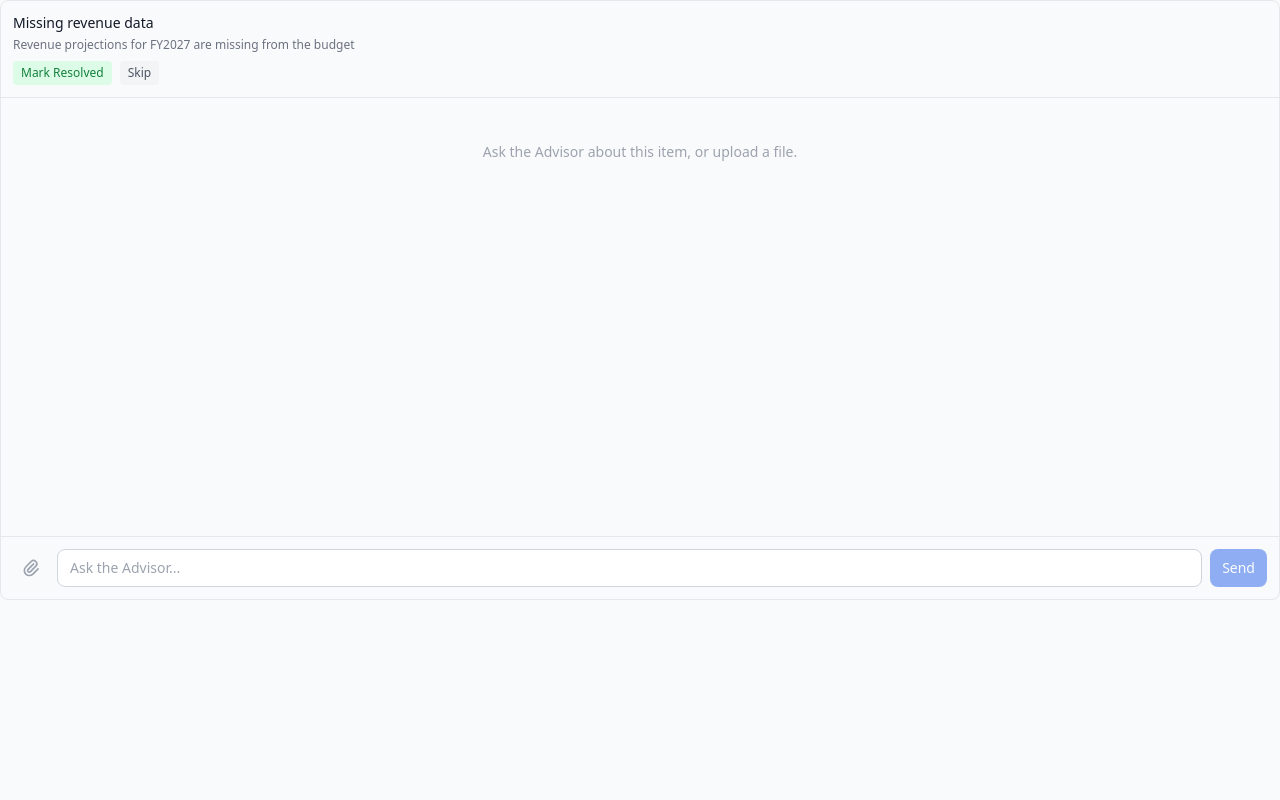
Test: TodoChat › shows 'Advisor is thinking...' while sending
Step 1. Type "Hello" into the field with placeholder "Ask the Advisor..." → point(630, 568), box 57,549 -> 1202,587
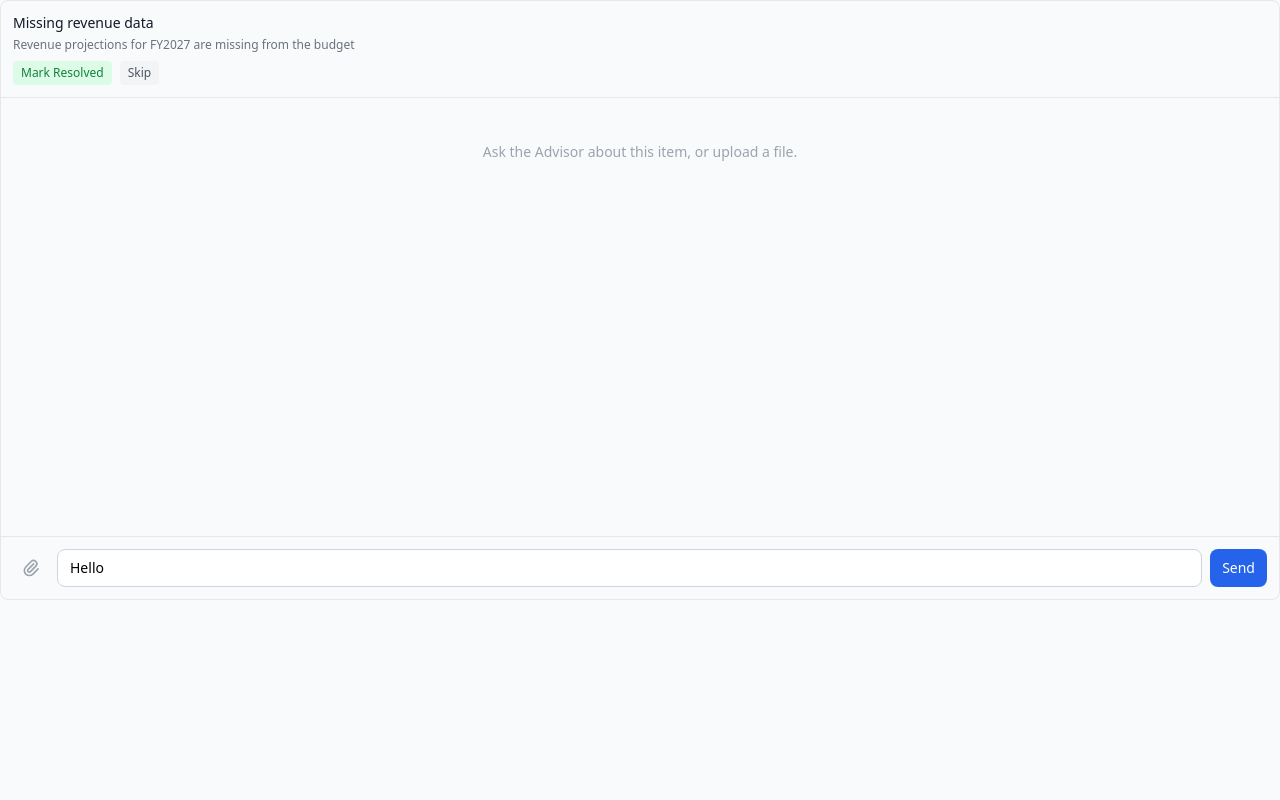
Step 2. Press Enter in the field with placeholder "Ask the Advisor...", box 57,549 -> 1202,587
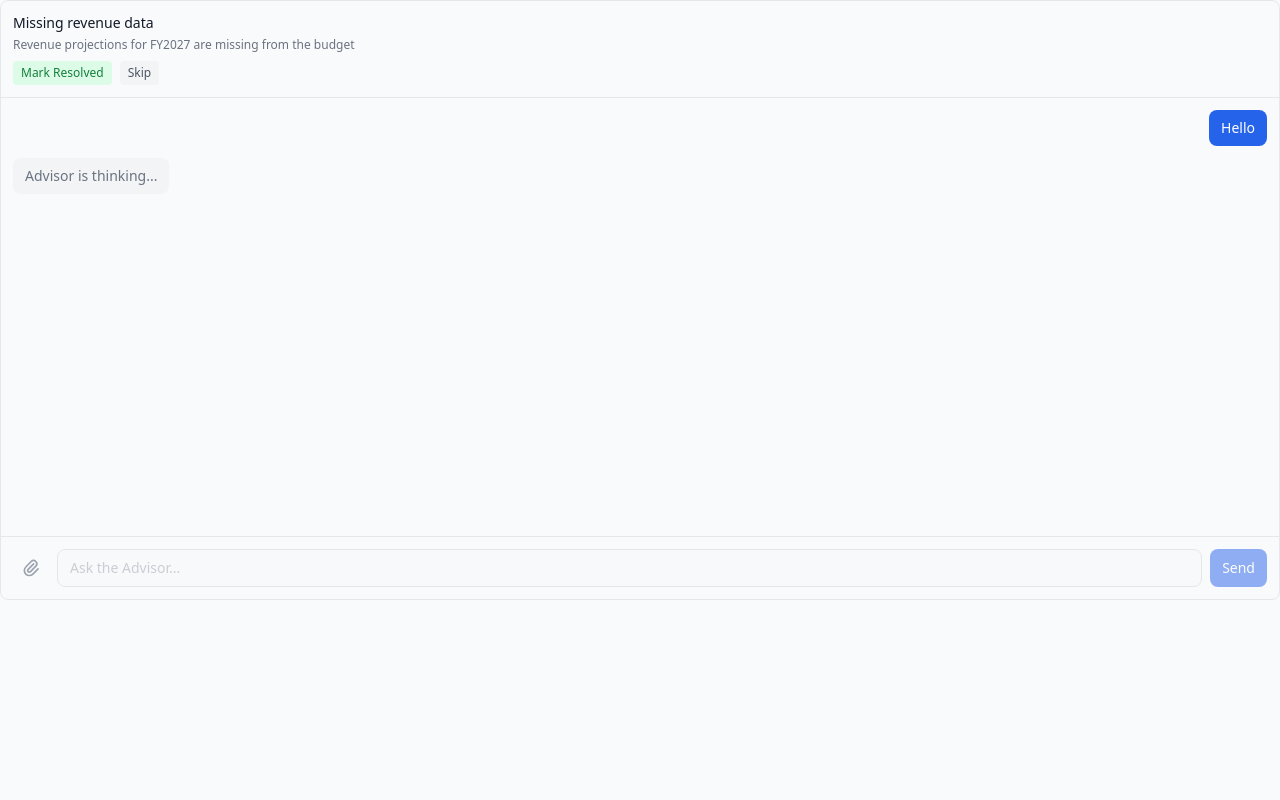
Expected: the text "Advisor is thinking..." is shown, 13,158 -> 169,194
